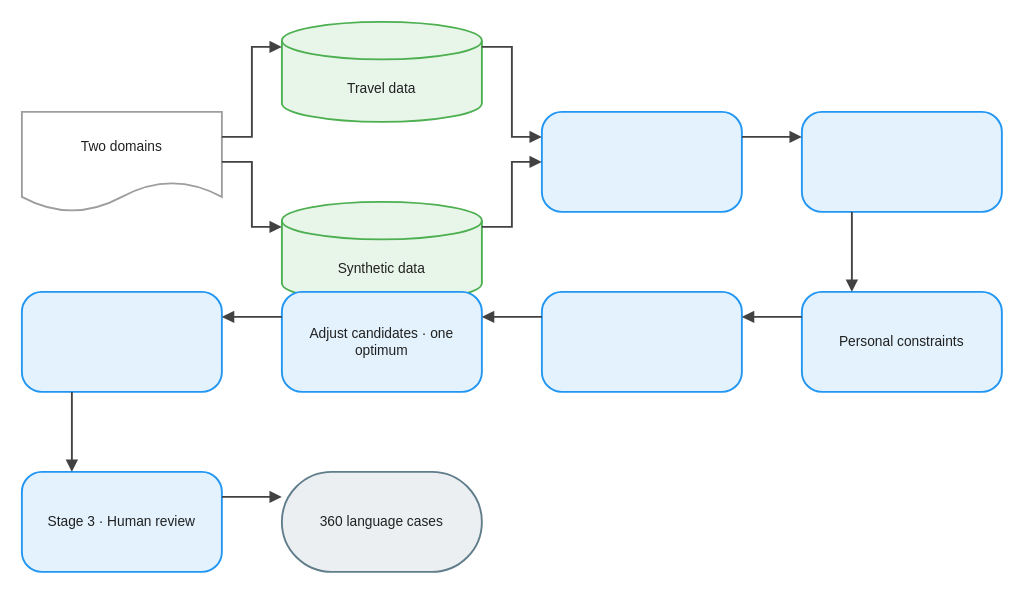
This 1025x595 diagram has some shape labels left out. The shapes that lost their labels are listed below. From the top down, each one's centre as x and y in pixels, then its label:
point 641,161: Stage 1 · DB + tools
point 901,161: Stage 2 · Base skeleton
point 121,341: LLM verbalization
point 641,341: Environment constraints
